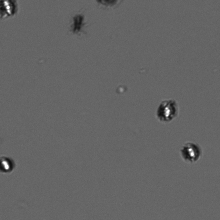Living Cell: (156, 100, 177, 122), (180, 142, 201, 162), (1, 155, 15, 174), (1, 1, 16, 17)
